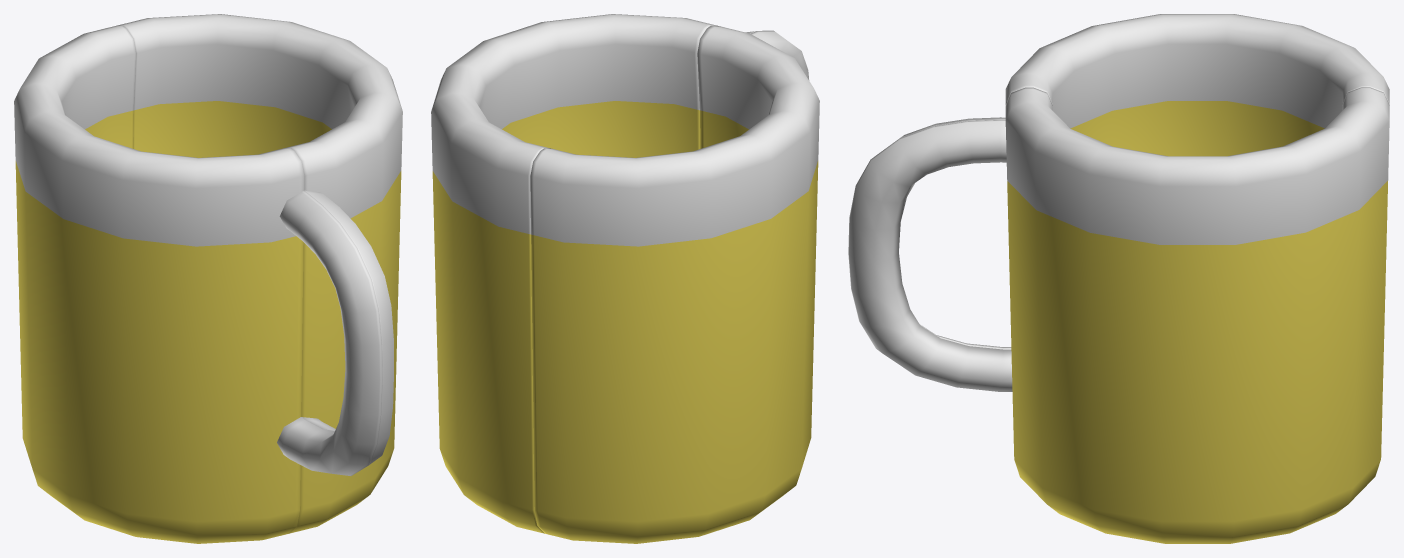
Rendered from SM_Cup_02a.fbx.
The picture shows the model from 3 angles, left to right: view 1: azimuth 30°, elevation 25°; view 2: azimuth 150°, elevation 25°; view 3: azimuth 270°, elevation 25°; orthographic projection.
Visible parts, largest first — view 1: Cup_02, Cup_01; view 2: Cup_02, Cup_01; view 3: Cup_01, Cup_02.
Boxes of the visible parts, <box> form: Cup_02: <box>14,25,382,543</box>; Cup_01: <box>116,14,402,533</box>; Cup_02: <box>530,25,819,543</box>; Cup_01: <box>431,14,755,533</box>; Cup_01: <box>848,87,1389,543</box>; Cup_02: <box>900,14,1389,349</box>.
Bounding box in the file's own units: 13.46 × 15.18 × 18.97.
